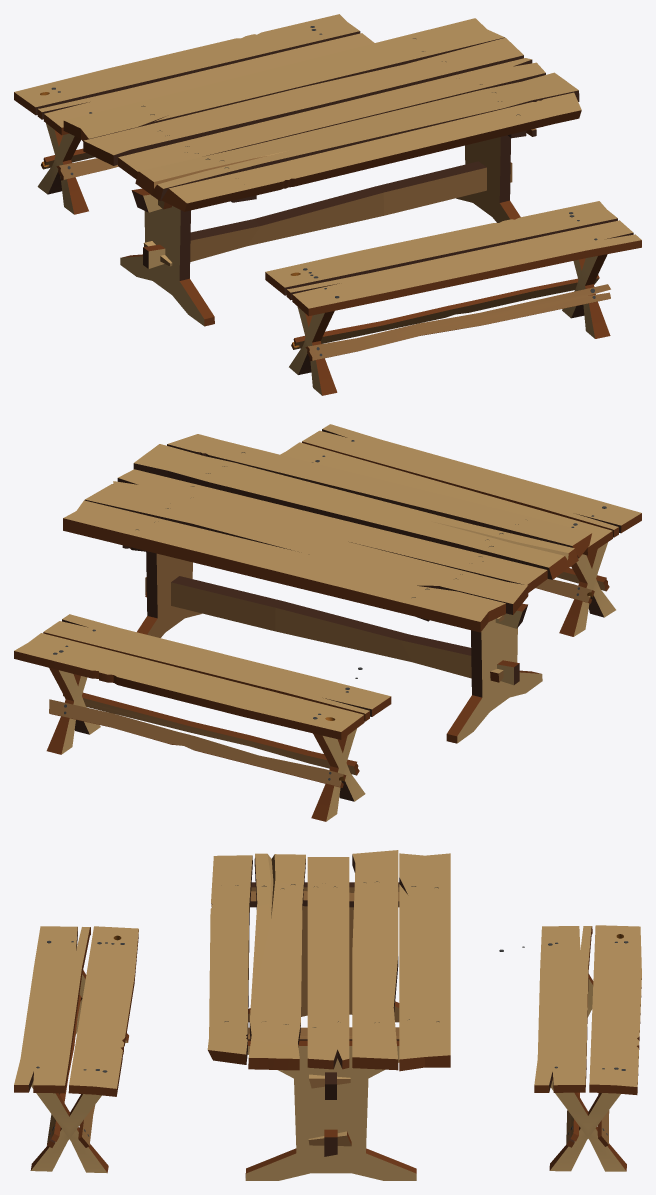
The model's file is For SF.fbx.
3 renders of one model, top to bottom at view 1: azimuth 30°, elevation 25°; view 2: azimuth 150°, elevation 25°; view 3: azimuth 270°, elevation 25°, orthographic.
Parts seen in each view (by area): view 1: Plane, Plane.004, Plane.001, Plane.003, Plane.008, Cube.001, Plane.002, Plane.006, Plane.007, Plane.010, Plane.005, Cube.006 (+6 smaller); view 2: Plane, Plane.003, Plane.006, Plane.001, Cube.001, Plane.002, Plane.004, Plane.008, Plane.010, Plane.005, Plane.007, Cube.014 (+6 smaller); view 3: Plane, Plane.003, Plane.001, Plane.009, Plane.002, Plane.008, Plane.007, Plane.010, Plane.004, Plane.006, Cube.013, Cube.007 (+2 smaller).
Part boxes in pixels (left/top/right/bottom): Plane: left=63, top=18, right=504, bottom=141; Plane.004: left=161, top=92, right=581, bottom=211; Plane.001: left=83, top=37, right=523, bottom=165; Plane.003: left=135, top=72, right=579, bottom=200; Plane.008: left=286, top=220, right=641, bottom=316; Cube.001: left=143, top=161, right=512, bottom=268; Plane.002: left=118, top=58, right=545, bottom=179; Plane.006: left=14, top=14, right=360, bottom=115; Plane.007: left=265, top=201, right=617, bottom=295; Plane.010: left=37, top=33, right=374, bottom=135; Plane.005: left=120, top=206, right=214, bottom=326; Cube.006: left=305, top=284, right=610, bottom=361; Plane: left=63, top=500, right=505, bottom=632; Plane.003: left=133, top=444, right=578, bottom=579; Plane.006: left=14, top=633, right=364, bottom=739; Plane.001: left=84, top=484, right=528, bottom=614; Cube.001: left=145, top=576, right=519, bottom=685; Plane.002: left=113, top=469, right=547, bottom=592; Plane.004: left=167, top=434, right=591, bottom=558; Plane.008: left=302, top=424, right=641, bottom=537; Plane.010: left=43, top=614, right=391, bottom=721; Plane.005: left=446, top=619, right=542, bottom=743; Plane.007: left=280, top=442, right=612, bottom=555; Cube.014: left=49, top=699, right=346, bottom=787; Plane: left=399, top=853, right=450, bottom=1071; Plane.003: left=248, top=853, right=305, bottom=1070; Plane.001: left=352, top=850, right=398, bottom=1070; Plane.009: left=245, top=1040, right=416, bottom=1180; Plane.002: left=307, top=857, right=349, bottom=1069; Plane.008: left=14, top=926, right=90, bottom=1093; Plane.007: left=68, top=926, right=138, bottom=1096; Plane.010: left=534, top=926, right=592, bottom=1092; Plane.004: left=207, top=855, right=252, bottom=1064; Plane.006: left=589, top=925, right=641, bottom=1094; Cube.013: left=549, top=1078, right=626, bottom=1171; Cube.007: left=30, top=1080, right=108, bottom=1173.
Bounding box in the file's own units: 803 × 270 × 1018.
